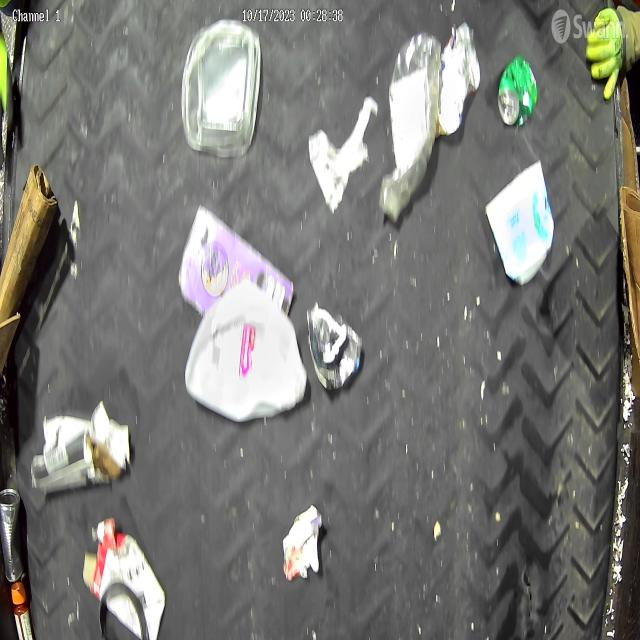can: (306, 306, 362, 391), (498, 56, 538, 128), (0, 488, 26, 582)
milk_jug: (182, 282, 308, 422)
plastic_bottle: (379, 31, 444, 222)
